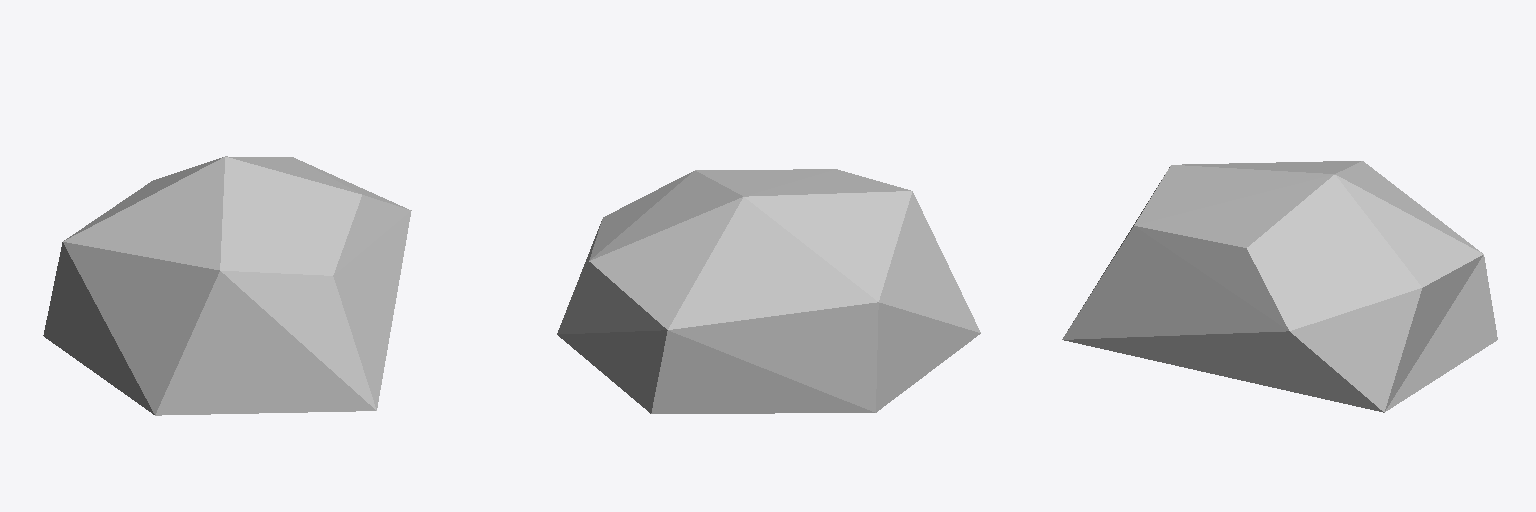
The model's file is Mesh_CavePack_Rock1_lod1.obj.
The picture shows the model from 3 angles: view 1: azimuth 30°, elevation 25°; view 2: azimuth 150°, elevation 25°; view 3: azimuth 270°, elevation 25°; orthographic projection.
Visible parts, largest first — view 1: lod0_Sphere.001; view 2: lod0_Sphere.001; view 3: lod0_Sphere.001.
Part boxes in pixels (left/top/right/bottom): lod0_Sphere.001: left=43, top=156, right=411, bottom=415; lod0_Sphere.001: left=557, top=169, right=980, bottom=413; lod0_Sphere.001: left=1062, top=161, right=1497, bottom=412.
Bounding box in the file's own units: 6.66 × 3.18 × 7.84.